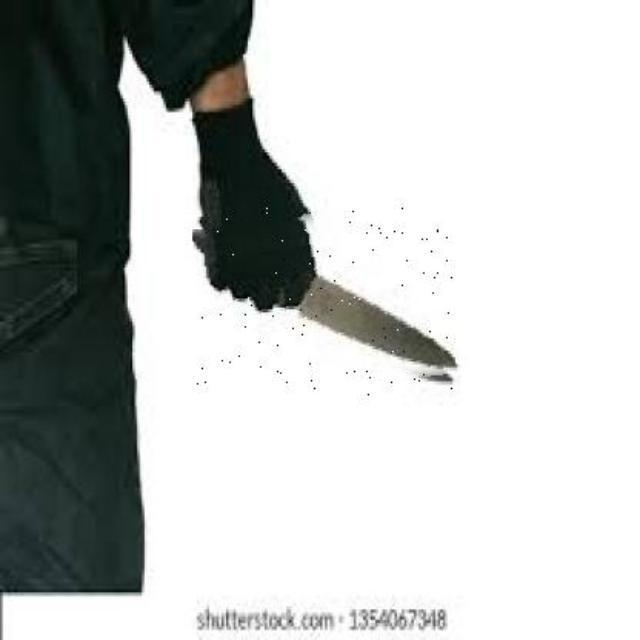Knife: (197, 208, 455, 396)
